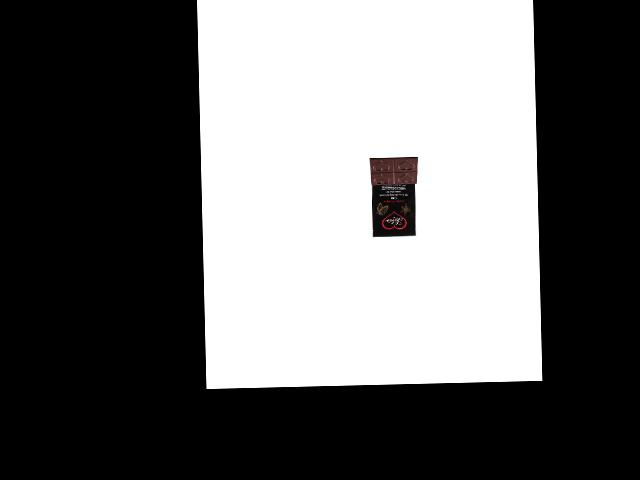chocolate: (368, 153, 423, 237)
